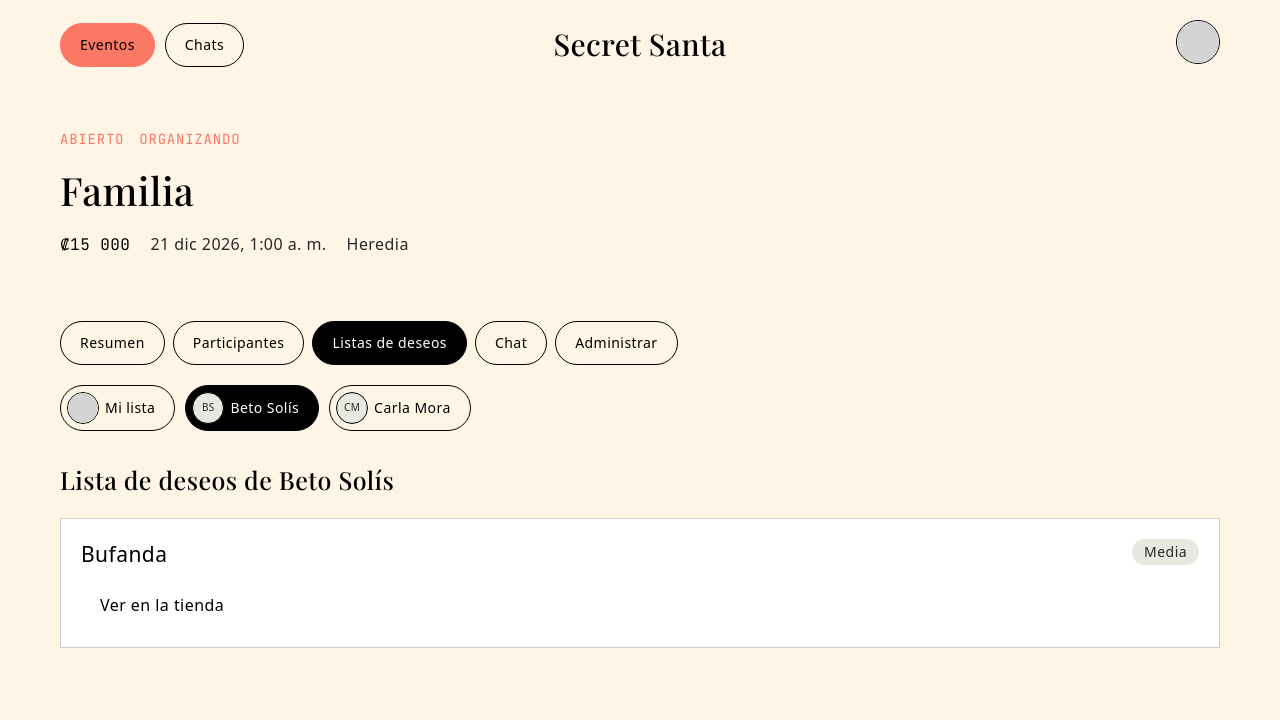
Wishlists tab › picker › opens the person in ?user= and keeps the URL in sync
Expected: the element named "Lista de quién" is shown, [60,384,471,430]
Click the button "CM Carla Mora" at [400, 408], box [329,384,471,430]
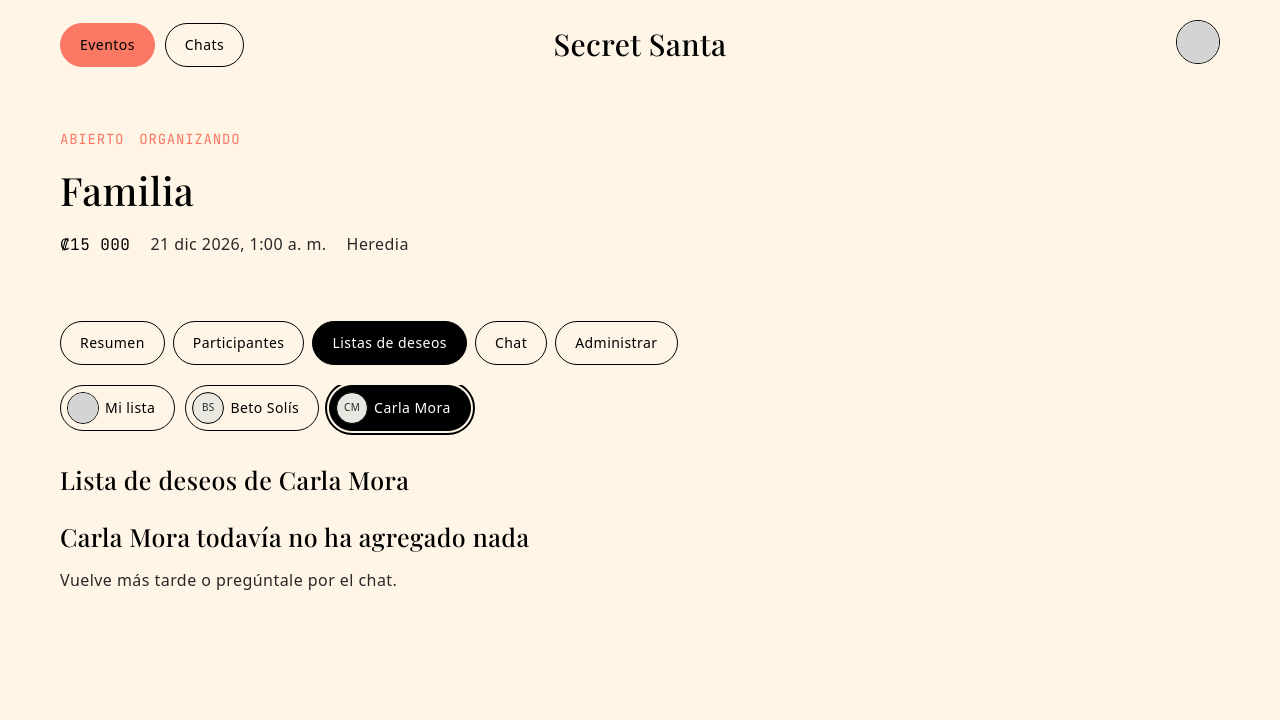
Expected: the text "Carla Mora todavía no ha agregado nada" is shown, [60,518,530,556]
